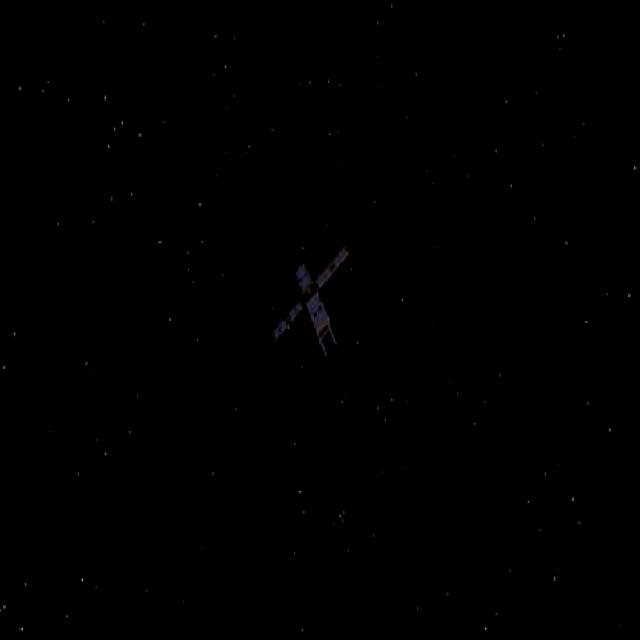medium_debris: (265, 235, 359, 373)
